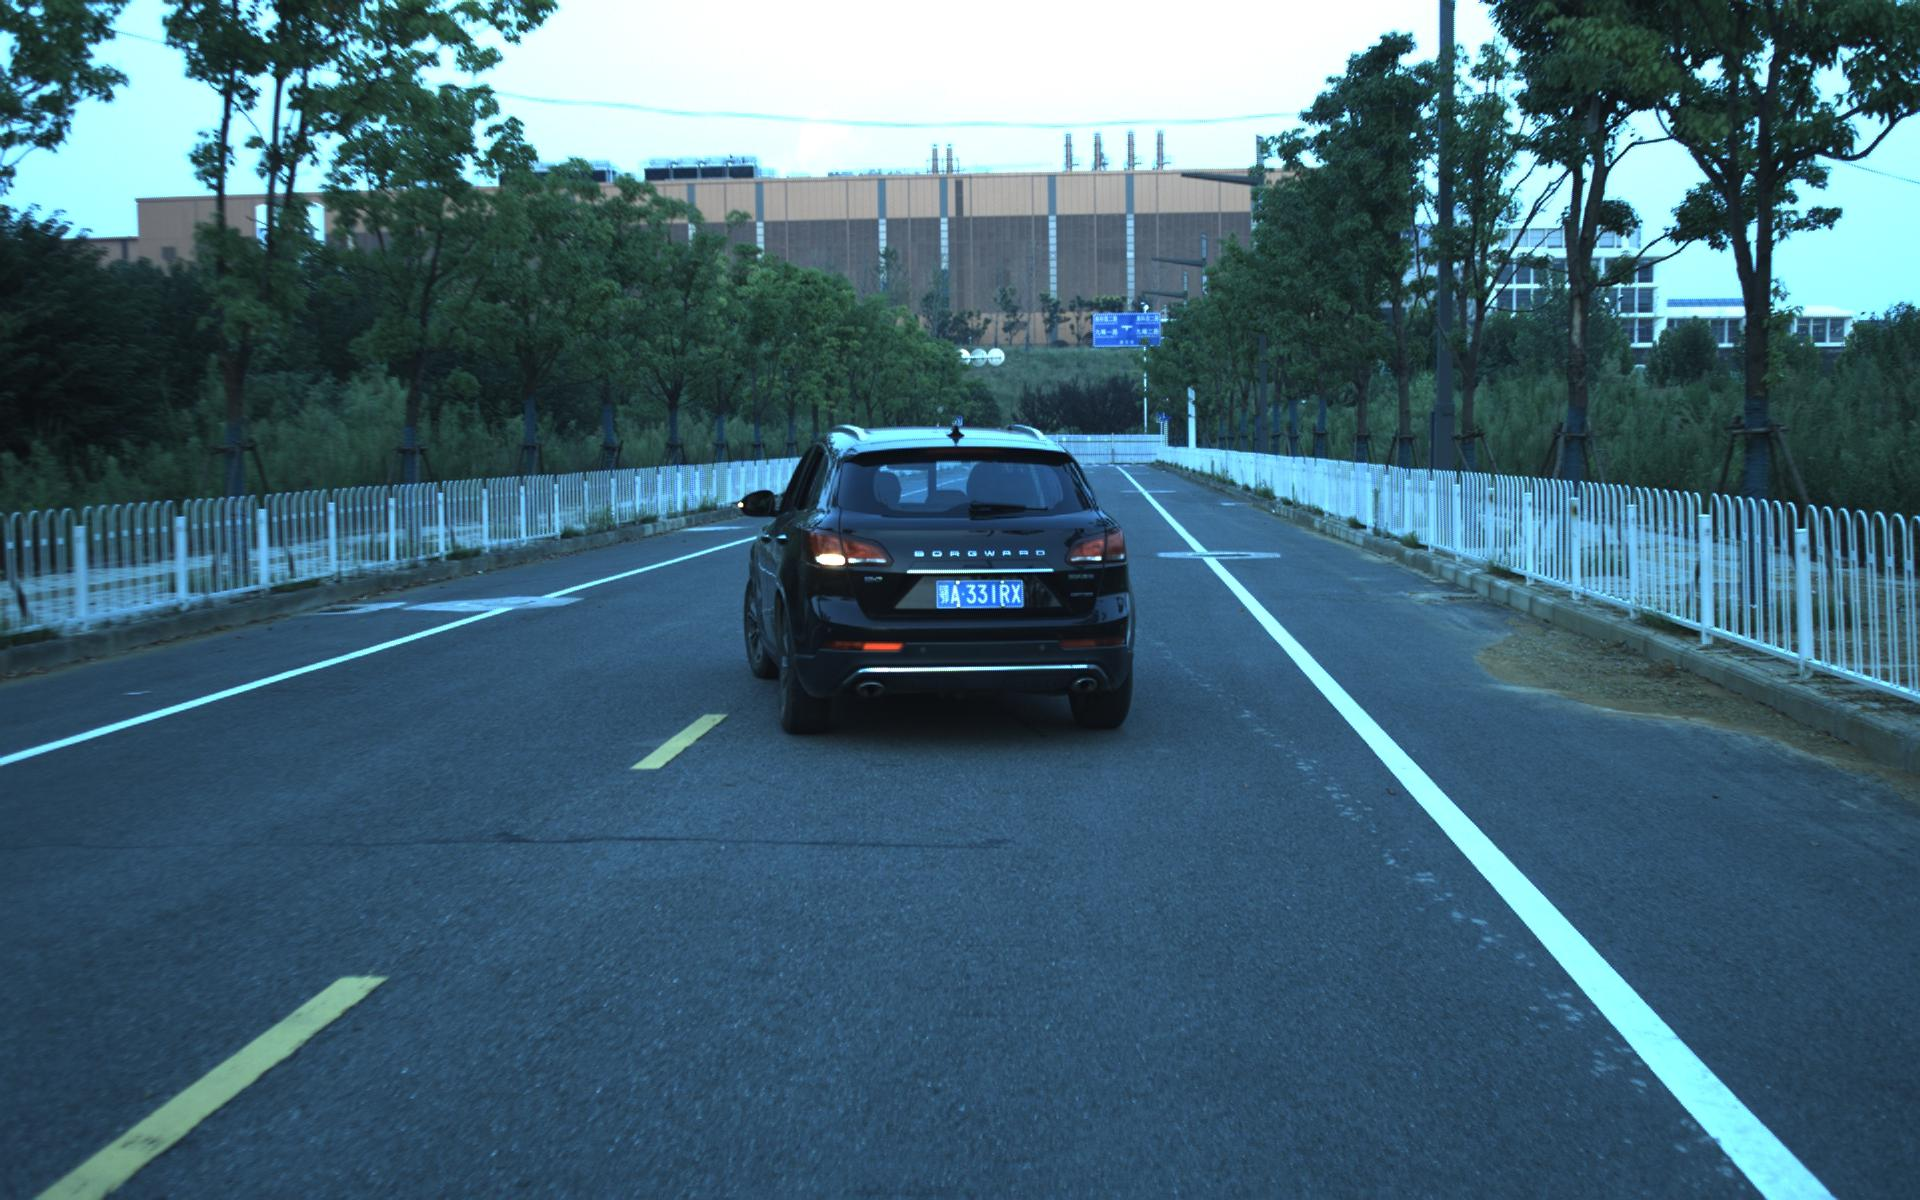Car: (740, 412, 1140, 749)
